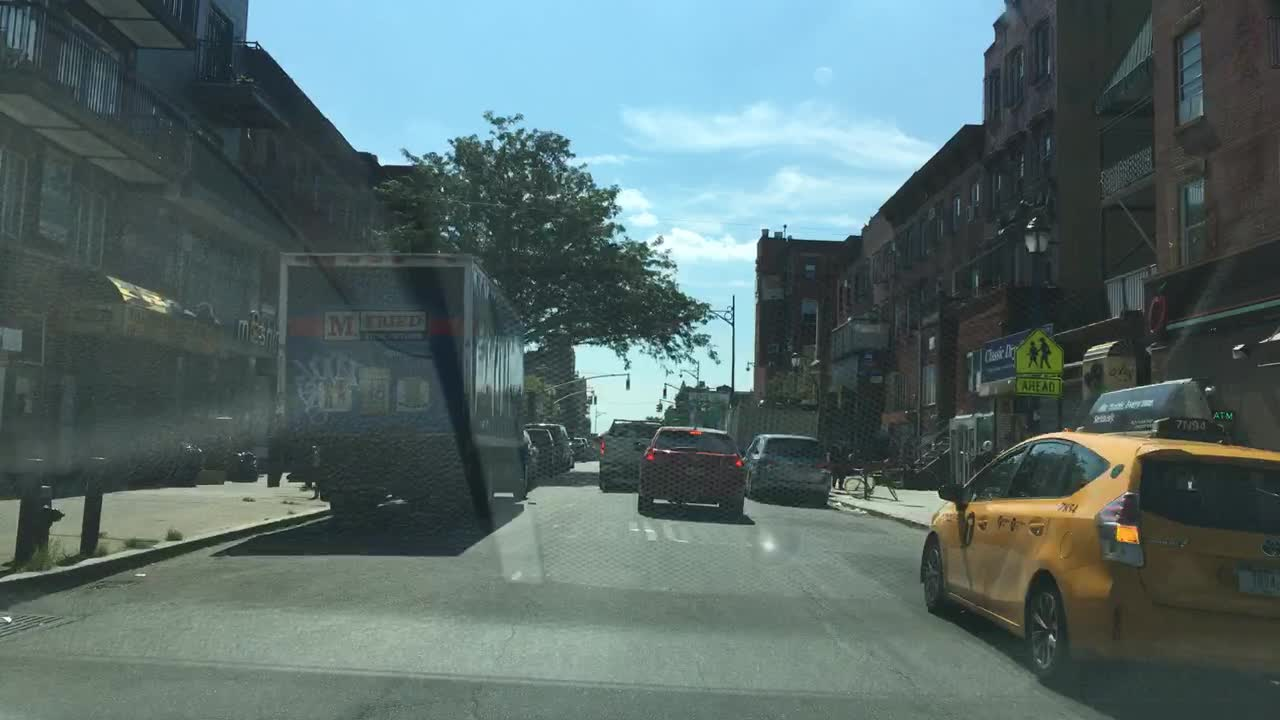bike: (840, 461, 899, 501)
car: (918, 379, 1277, 691), (635, 421, 747, 517), (746, 435, 832, 505), (596, 416, 658, 491), (539, 422, 580, 477), (527, 427, 554, 480), (520, 437, 537, 490), (570, 435, 593, 459)
person: (833, 444, 848, 494)
traffic sign: (1016, 329, 1063, 374), (1014, 376, 1063, 399), (1, 326, 24, 354)
truck: (278, 248, 525, 531), (721, 401, 818, 451)
